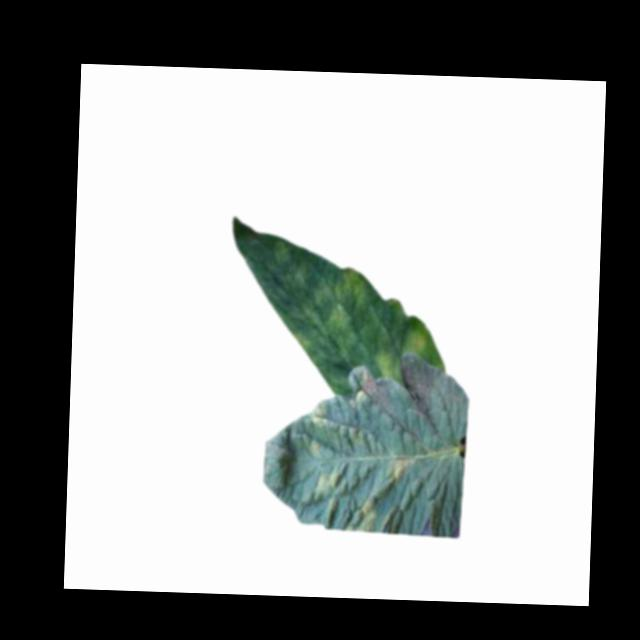Leaf_Mold: (316, 300, 353, 355), (343, 495, 380, 533), (371, 348, 404, 385), (336, 267, 365, 303), (311, 468, 342, 501), (385, 454, 412, 484), (307, 402, 336, 429), (403, 328, 428, 356), (304, 435, 327, 461)
